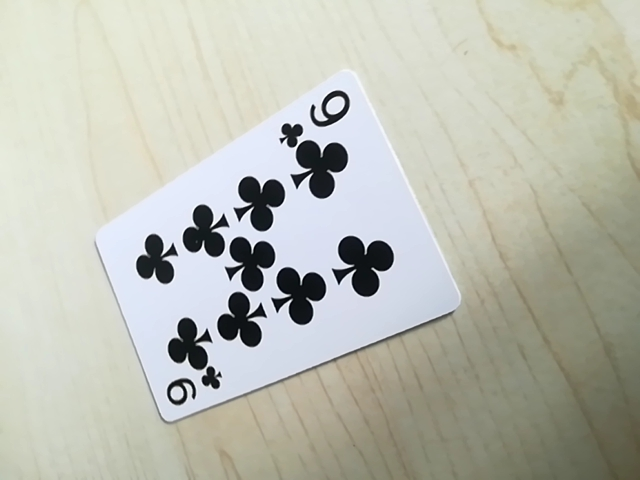mh 9: (275, 84, 358, 141), (156, 362, 225, 415)
